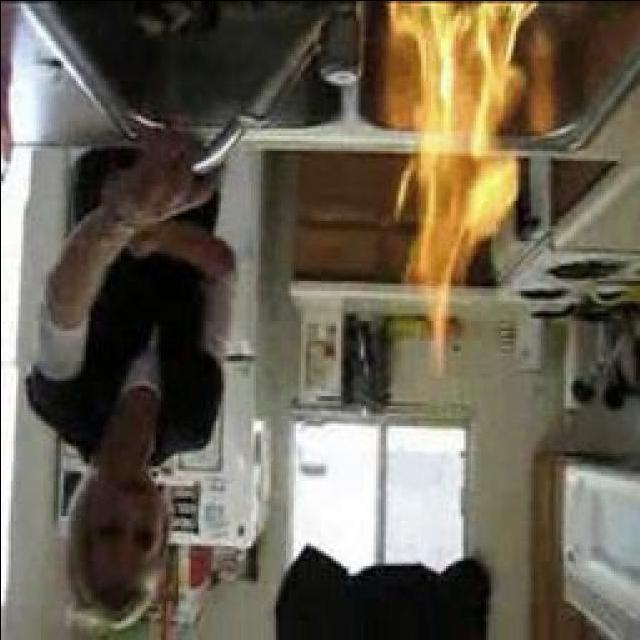Fire: (384, 0, 524, 352)
